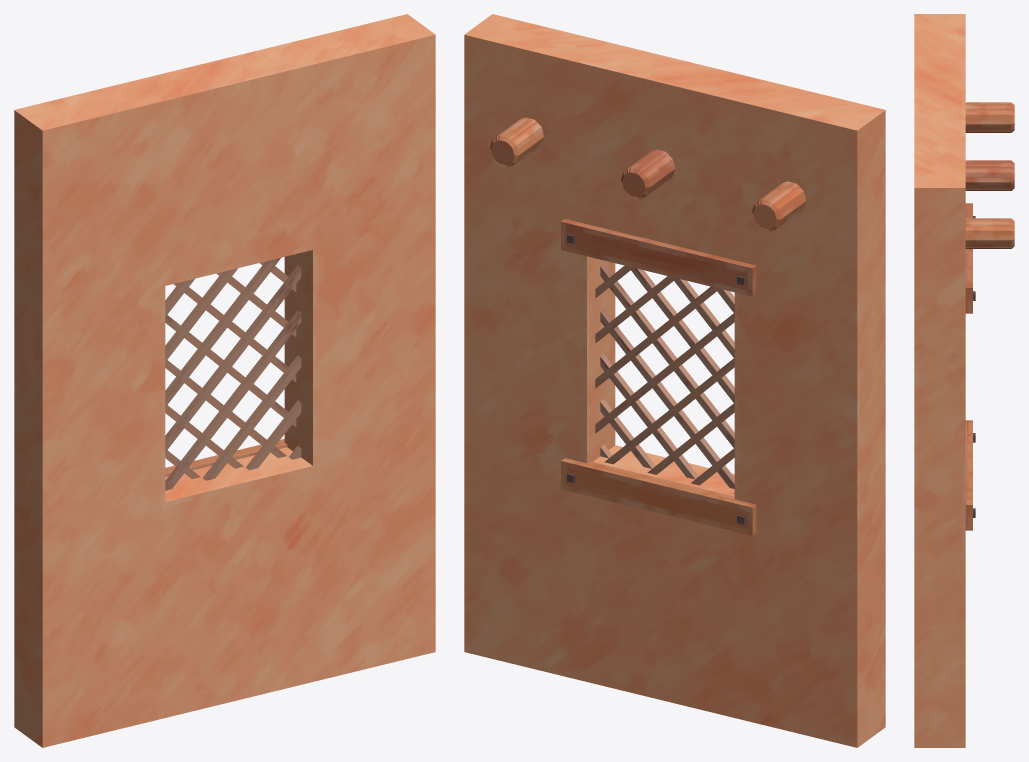
File: wall_upper_window.bundle.fbx
3 views of the same model, side by side, from view 1: azimuth 30°, elevation 25°; view 2: azimuth 150°, elevation 25°; view 3: azimuth 270°, elevation 25° (orthographic). The views are drawn at different scales.
Parts seen in each view (by area): view 1: wall_upper_window, wall_upper_window_s04, wall_upper_window_s08, wall_upper_window_s10, wall_upper_window_s11, wall_upper_window_s07, wall_upper_window_s01, wall_upper_window_s03, wall_upper_window_s09, wall_upper_window_s06, wall_upper_window_s00, wall_upper_window_s02 (+1 smaller); view 2: wall_upper_window, wall_upper_window_s04, wall_upper_window_s08, wall_upper_window_s09, wall_upper_window_s11, wall_upper_window_s10, wall_upper_window_low, wall_upper_window_s02, wall_upper_window_s07, wall_upper_window_s03, wall_upper_window_s05, wall_upper_window_s00 (+1 smaller); view 3: wall_upper_window, wall_upper_window_s05, wall_upper_window_s02, wall_upper_window_s07, wall_upper_window_s01, wall_upper_window_s09, wall_upper_window_low, wall_upper_window_s10.
Part boxes in pixels (left/top/right/bottom): wall_upper_window: left=14, top=14, right=435, bottom=747; wall_upper_window_s04: left=14, top=504, right=263, bottom=747; wall_upper_window_s08: left=14, top=314, right=180, bottom=516; wall_upper_window_s10: left=14, top=73, right=246, bottom=337; wall_upper_window_s11: left=179, top=578, right=403, bottom=714; wall_upper_window_s07: left=341, top=14, right=435, bottom=189; wall_upper_window_s01: left=212, top=34, right=353, bottom=227; wall_upper_window_s03: left=281, top=197, right=411, bottom=357; wall_upper_window_s09: left=258, top=352, right=435, bottom=586; wall_upper_window_s06: left=152, top=225, right=339, bottom=350; wall_upper_window_s00: left=167, top=334, right=377, bottom=497; wall_upper_window_s02: left=417, top=186, right=435, bottom=352; wall_upper_window: left=464, top=14, right=885, bottom=747; wall_upper_window_s04: left=646, top=497, right=885, bottom=747; wall_upper_window_s08: left=731, top=310, right=885, bottom=523; wall_upper_window_s09: left=464, top=354, right=654, bottom=592; wall_upper_window_s11: left=498, top=574, right=735, bottom=718; wall_upper_window_s10: left=646, top=67, right=884, bottom=333; wall_upper_window_low: left=491, top=118, right=799, bottom=535; wall_upper_window_s02: left=464, top=138, right=523, bottom=356; wall_upper_window_s07: left=464, top=15, right=568, bottom=170; wall_upper_window_s03: left=508, top=158, right=634, bottom=357; wall_upper_window_s05: left=464, top=432, right=538, bottom=659; wall_upper_window_s00: left=532, top=334, right=734, bottom=537; wall_upper_window: left=914, top=14, right=1014, bottom=747; wall_upper_window_s05: left=914, top=550, right=965, bottom=747; wall_upper_window_s02: left=914, top=288, right=965, bottom=478; wall_upper_window_s07: left=914, top=152, right=965, bottom=321; wall_upper_window_s01: left=914, top=92, right=965, bottom=153; wall_upper_window_s09: left=914, top=476, right=965, bottom=555; wall_upper_window_low: left=965, top=104, right=1014, bottom=530; wall_upper_window_s10: left=914, top=68, right=965, bottom=94.
Bounding box in the file's own units: 8 × 12 × 1.95.
Materials: 1 (1 with a texture image).
